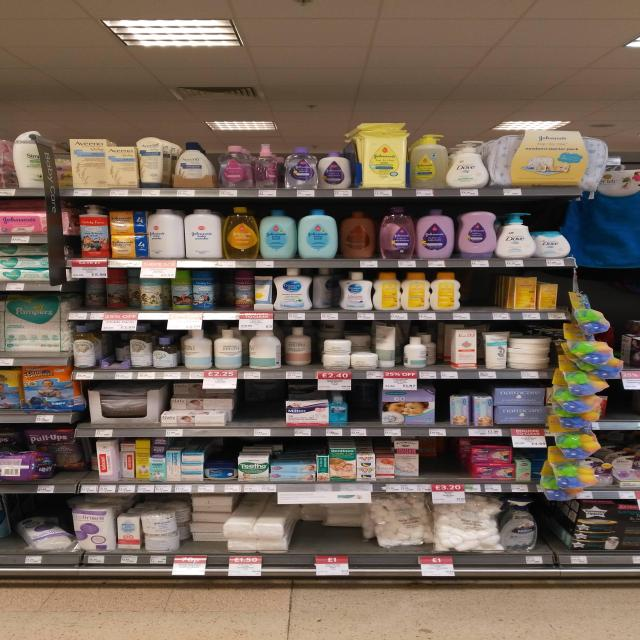empty: (238, 383, 285, 423), (462, 273, 501, 309), (421, 438, 457, 477), (610, 385, 640, 422), (349, 388, 379, 422), (215, 270, 233, 310)
